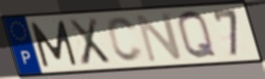7: (210, 8, 241, 59)
C: (105, 15, 146, 64)
M: (28, 19, 80, 69)
N: (134, 12, 185, 64)
Q: (176, 10, 220, 62)
X: (66, 16, 113, 68)
